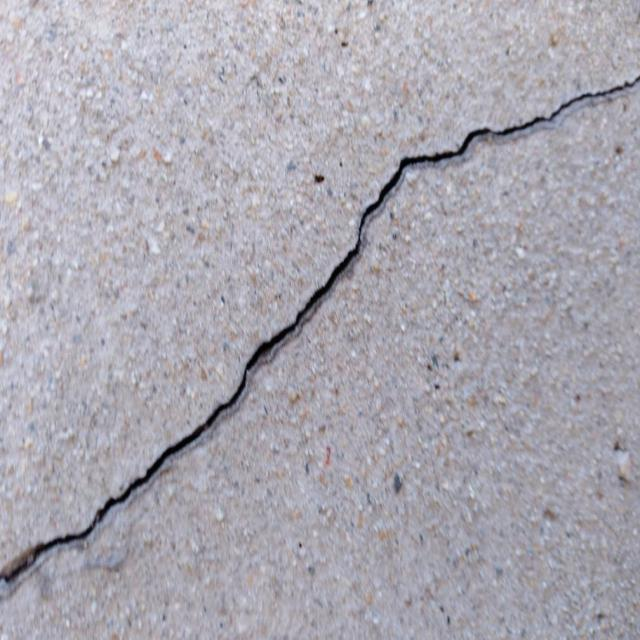diagonal crack: (0, 75, 637, 584)
